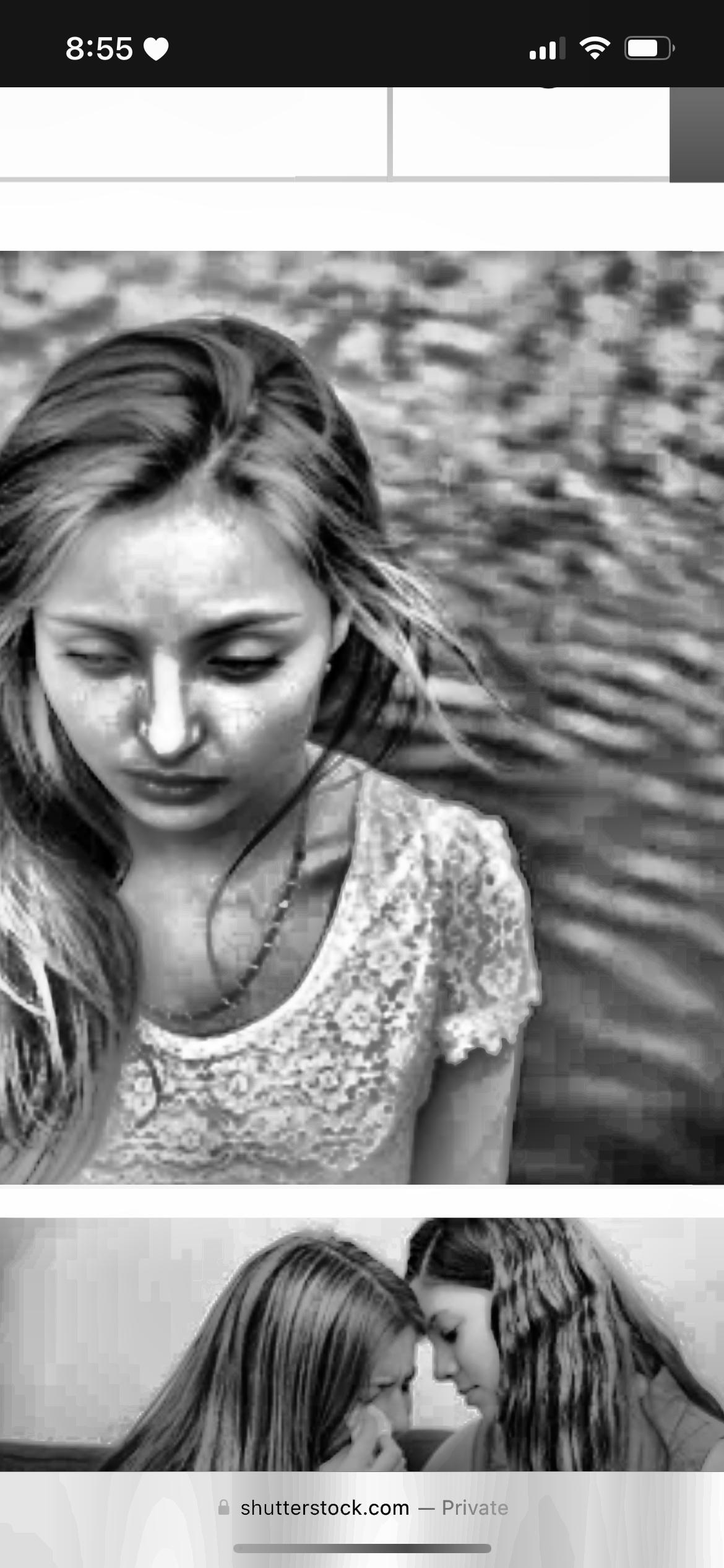Sad: (44, 438, 419, 846)
